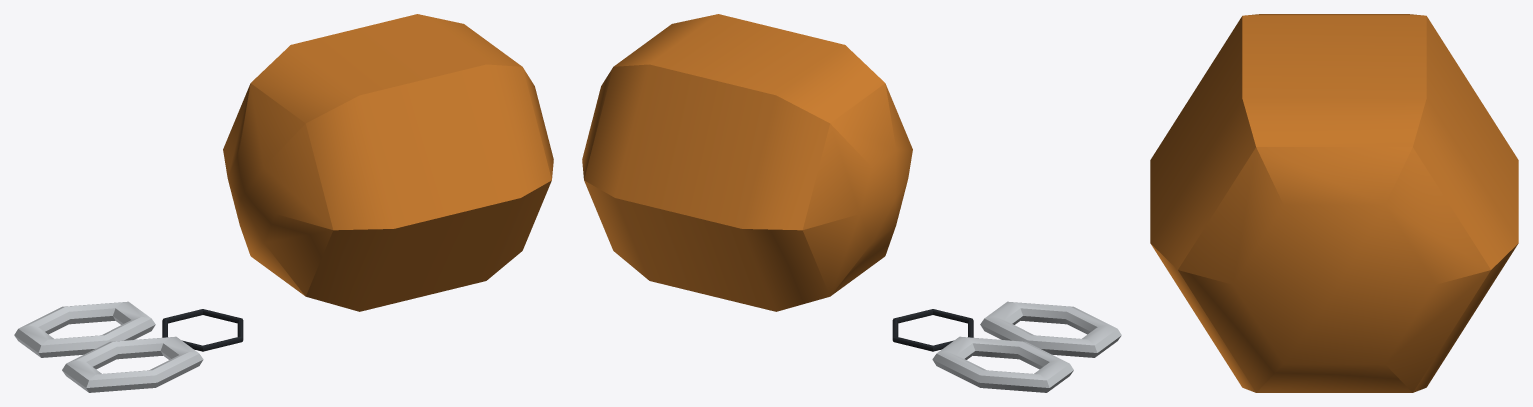
Rendered from hammock_camping_packed.far.glb.
3 renders of one model, left to right at view 1: azimuth 30°, elevation 25°; view 2: azimuth 150°, elevation 25°; view 3: azimuth 270°, elevation 25°, orthographic. The views are drawn at different scales.
Visible parts, largest first — view 1: hammock_camping_packed; view 2: hammock_camping_packed; view 3: hammock_camping_packed.
Part boxes in pixels (bbox=[...]): hammock_camping_packed: bbox=[14, 14, 553, 392]; hammock_camping_packed: bbox=[582, 14, 1121, 392]; hammock_camping_packed: bbox=[1150, 14, 1518, 392].
Bounding box in the file's own units: 0.2536 × 0.1185 × 0.127.
